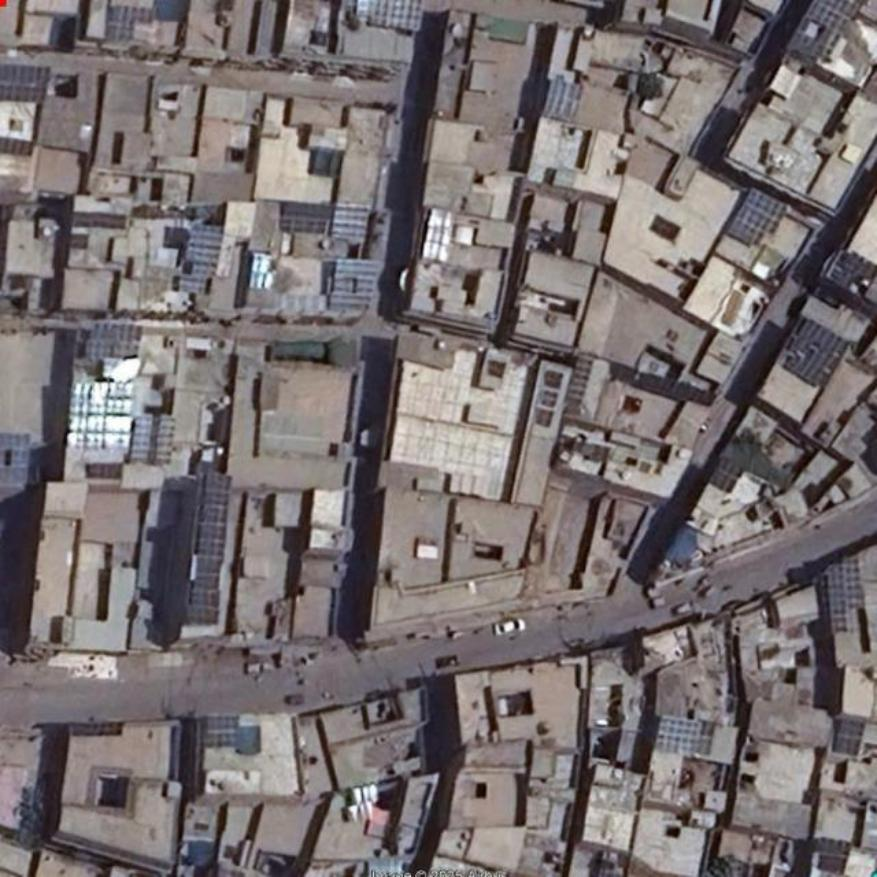Solarpanel: (190, 467, 231, 624), (784, 319, 850, 389), (67, 384, 133, 448), (728, 186, 785, 249), (177, 223, 225, 293), (828, 560, 869, 632), (331, 262, 379, 310), (130, 414, 177, 463), (542, 74, 586, 122), (0, 62, 50, 103), (654, 715, 702, 755), (104, 4, 153, 41), (91, 324, 142, 359), (280, 201, 335, 233), (367, 0, 420, 32), (330, 204, 371, 242), (833, 718, 865, 759), (208, 716, 240, 748)
